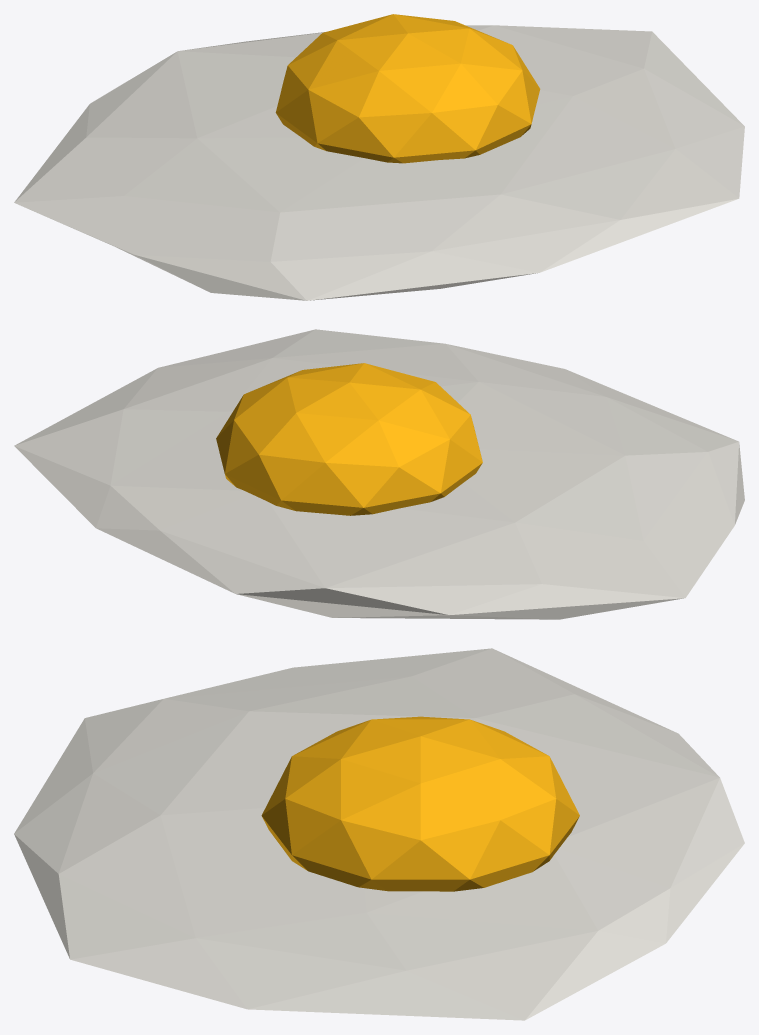
File: fried_egg.glb
The picture shows the model from 3 angles, top to bottom: view 1: azimuth 30°, elevation 25°; view 2: azimuth 150°, elevation 25°; view 3: azimuth 270°, elevation 25°; orthographic projection. The views are drawn at different scales.
Visible parts, largest first — view 1: fried_egg; view 2: fried_egg; view 3: fried_egg.
Part boxes in pixels (x1=…): fried_egg: x1=14, y1=14, x2=744, y2=300; fried_egg: x1=14, y1=329, x2=744, y2=619; fried_egg: x1=14, y1=648, x2=744, y2=1020.
Bounding box in the file's own units: 0.1002 × 0.0198 × 0.0826.
